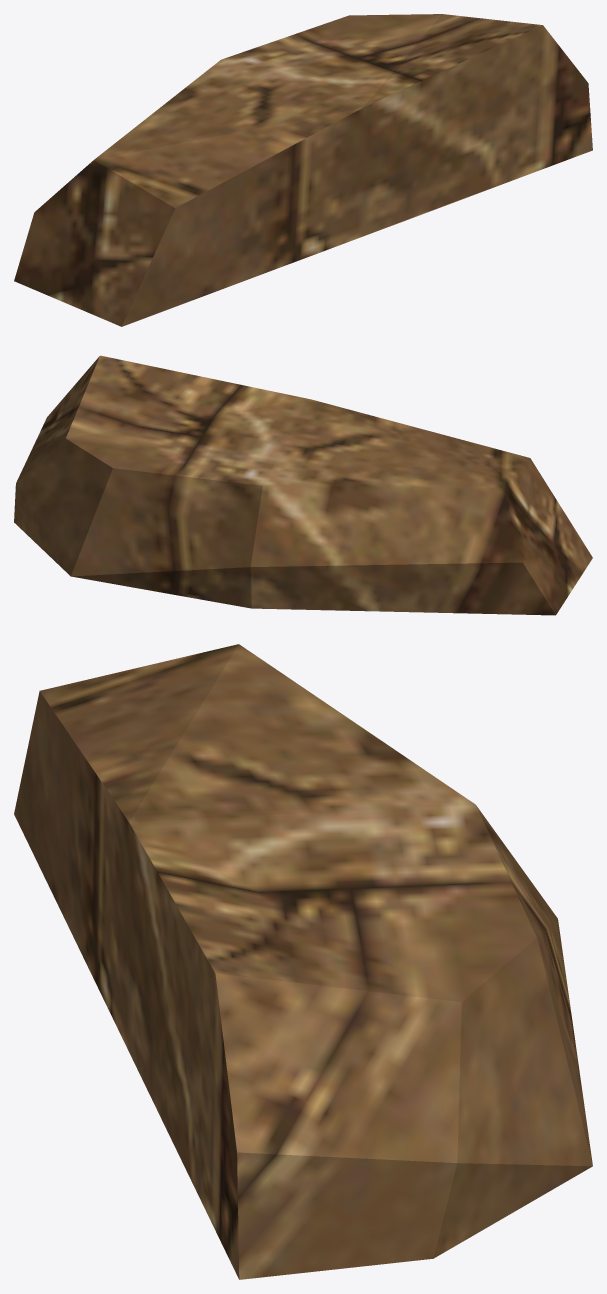
The model's file is Scene_suishi_001.FBX.
3 views of the same model, one above another, from view 1: azimuth 30°, elevation 25°; view 2: azimuth 150°, elevation 25°; view 3: azimuth 270°, elevation 25° (orthographic). The views are drawn at different scales.
Parts seen in each view (by area): view 1: Scene_suishi_001; view 2: Scene_suishi_001; view 3: Scene_suishi_001.
Part boxes in pixels (left/top/right/bottom): Scene_suishi_001: left=14, top=14, right=592, bottom=326; Scene_suishi_001: left=14, top=355, right=592, bottom=615; Scene_suishi_001: left=14, top=644, right=592, bottom=1279.
Bounding box in the file's own units: 2.34 × 0.5673 × 1.16.
